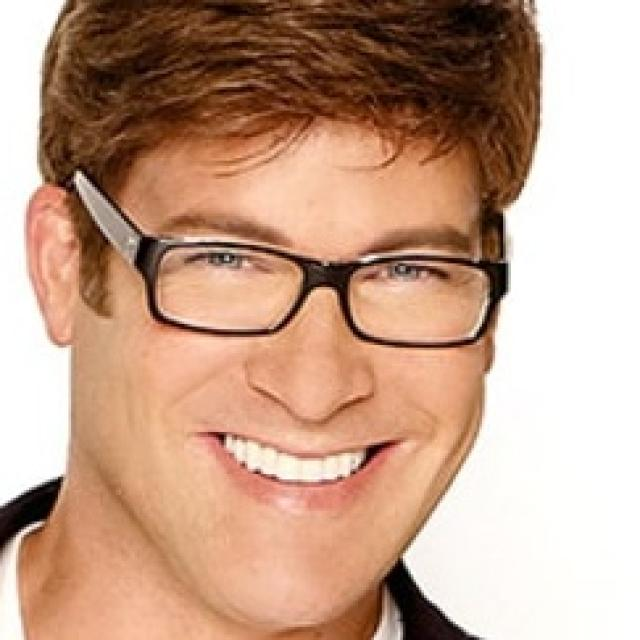Normal: (66, 76, 493, 634)
